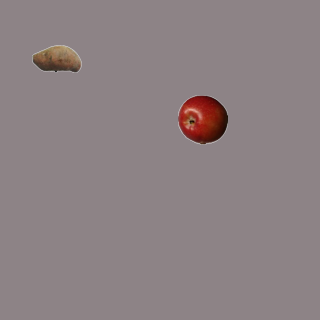Apple Braeburn: (177, 94, 227, 144)
Potato Sweet: (31, 33, 81, 83)
